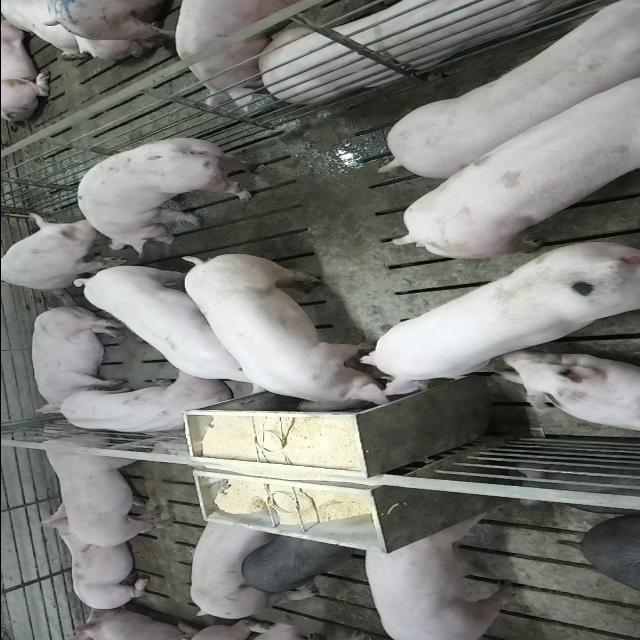Feeding: (353, 242, 634, 410), (176, 256, 410, 419)
Lateral_lying: (250, 0, 620, 101), (28, 304, 128, 414)
Sitting: (1, 216, 121, 294)
Standing: (386, 59, 640, 255), (380, 0, 640, 176), (70, 261, 286, 394), (76, 132, 278, 251), (364, 507, 518, 638), (34, 422, 181, 552), (173, 0, 306, 106), (186, 510, 274, 618), (237, 532, 355, 594)
Sternal_lying: (32, 508, 156, 612), (44, 375, 232, 438), (498, 354, 640, 436)
